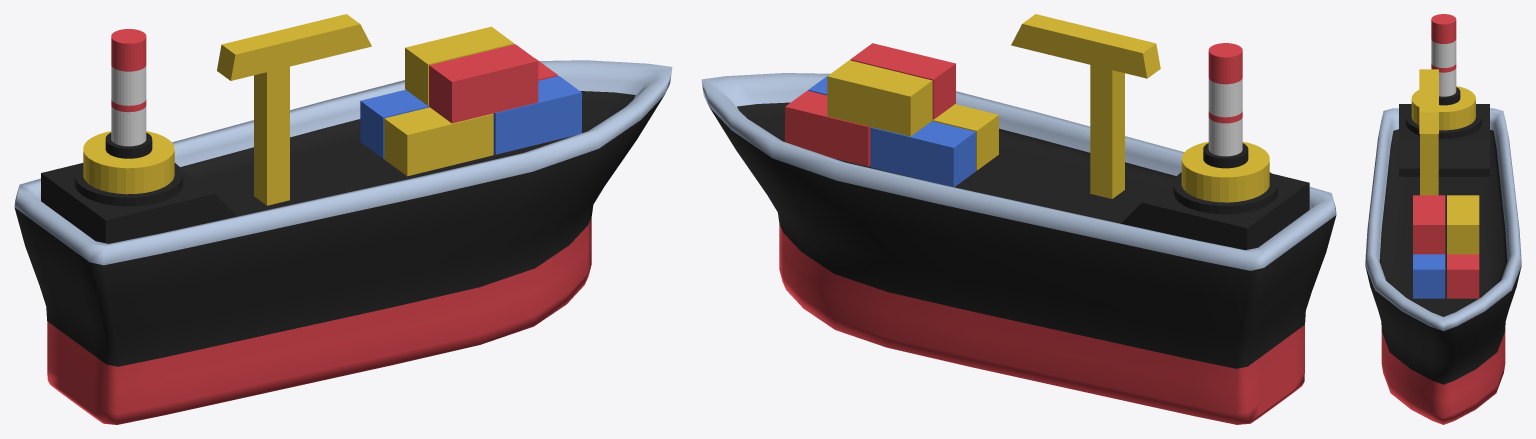
Rendered from Ship.fbx.
3 views of the same model, side by side, from view 1: azimuth 30°, elevation 25°; view 2: azimuth 150°, elevation 25°; view 3: azimuth 270°, elevation 25° (orthographic). The views are drawn at different scales.
Parts seen in each view (by area): view 1: Cube.010; view 2: Cube.010; view 3: Cube.010.
Boxes of the visible parts, box(x1,y1,x2,y2) form: Cube.010: box(14, 14, 672, 424); Cube.010: box(701, 14, 1336, 424); Cube.010: box(1365, 14, 1521, 424).
Size of the model in its own units: 213 by 117 by 66.04.
